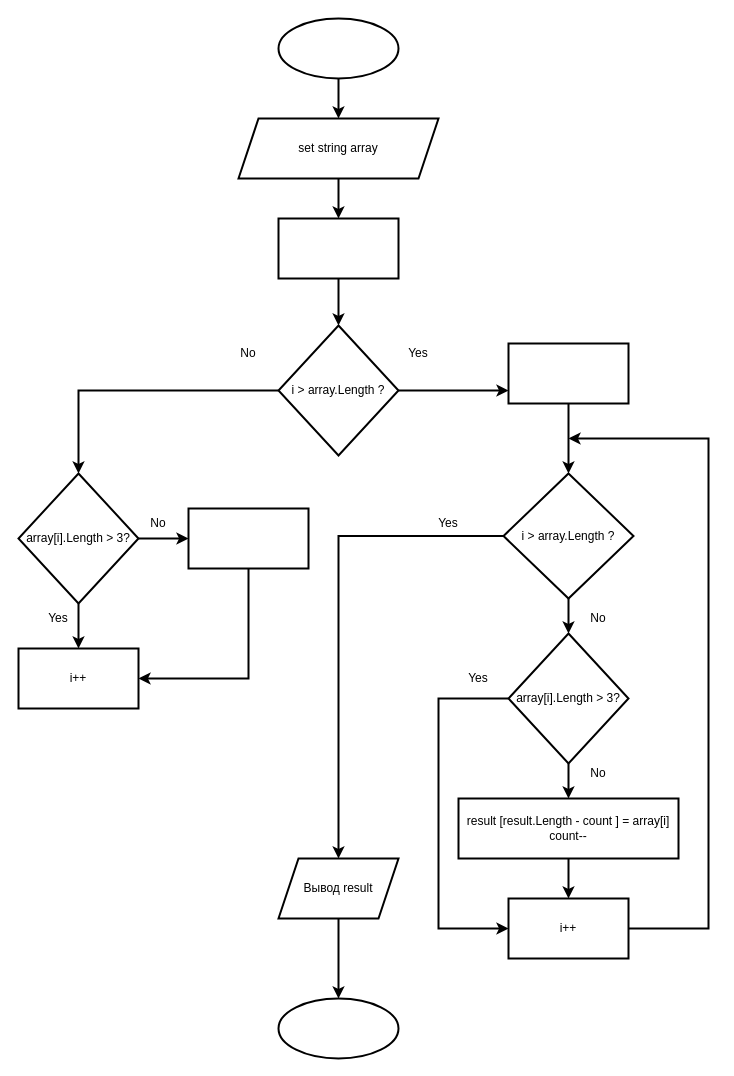
Image size: 734x1076. Some labels were removed from this diagram. The shapes that lost their labels are listed below. From the top down, each one's centre as x and y in pixels, then its label:
At point 338,48: "start".
At point 338,248: "count = 0 i = 0".
At point 568,373: "string[] result = new string[count] i = 0".
At point 248,538: "count++".
At point 338,1028: "end".
